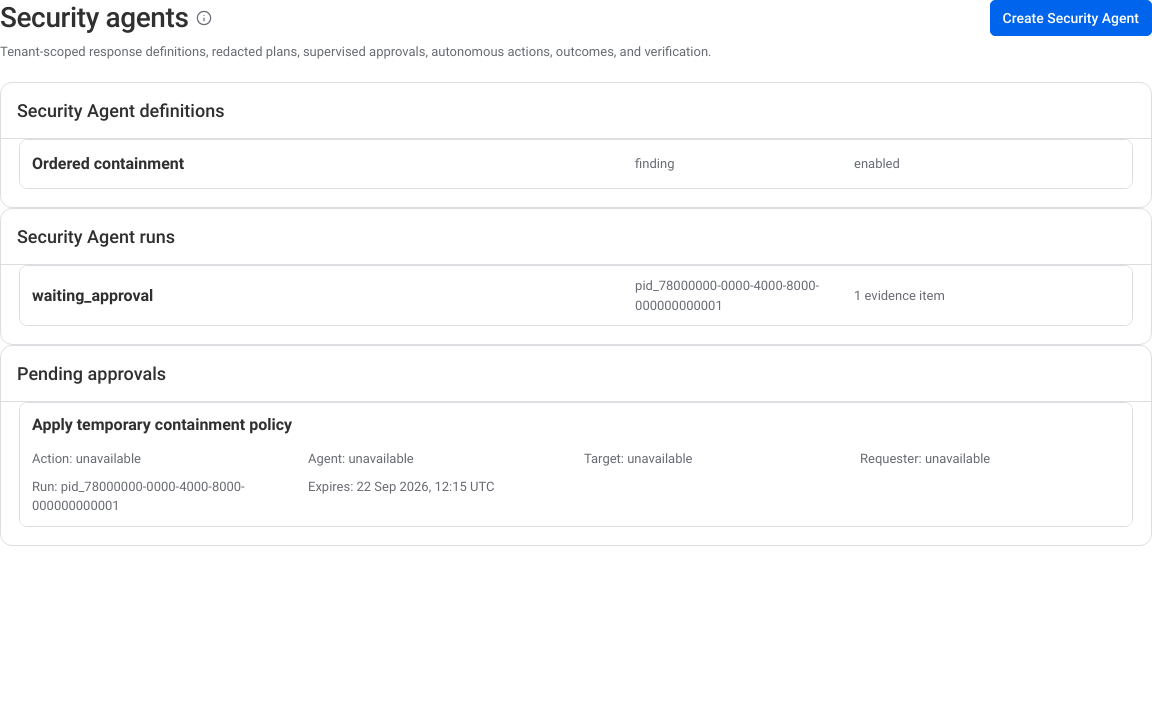
Test: ordered run drawer › keeps approved v2 after direct decision when an older refresh returns pending
Later steps or results of the test are not shown.
Click the button with aria-label "Open approval pid_78000000-0000-4000-8000-000000000006" at (162, 424), box [20,403,1132,526]
(page scrolled)
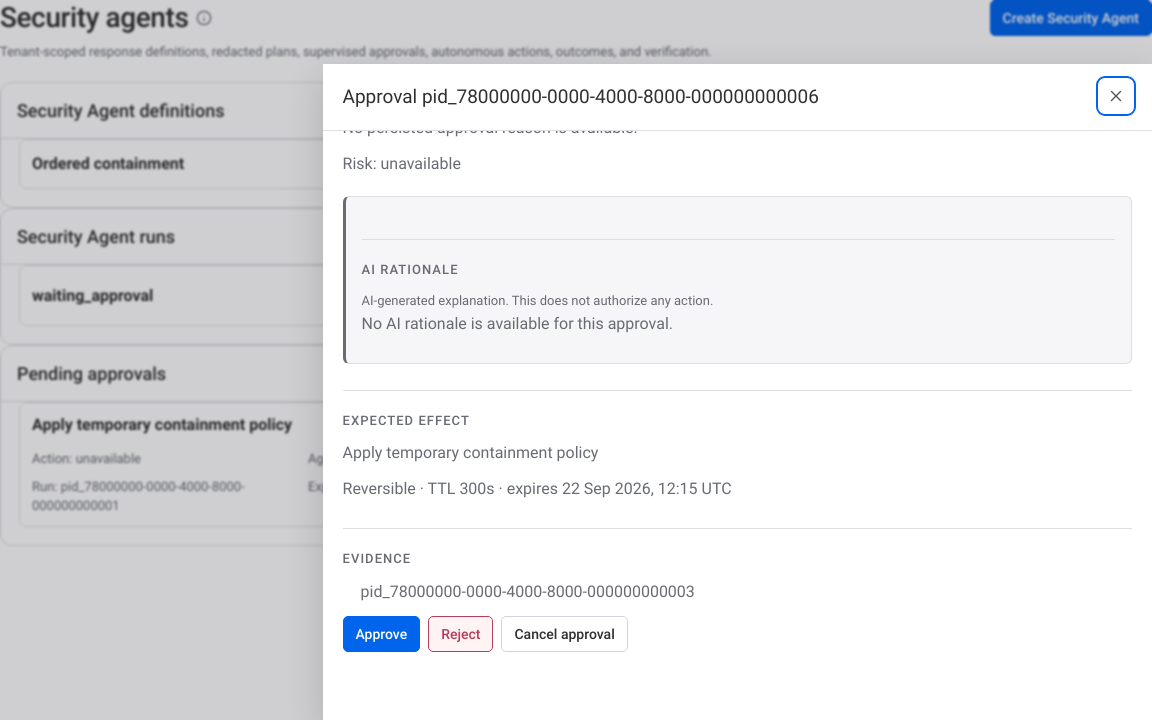
Check: the dialog is shown
Click the button "Approve" at (381, 634), box [343,616,420,652]
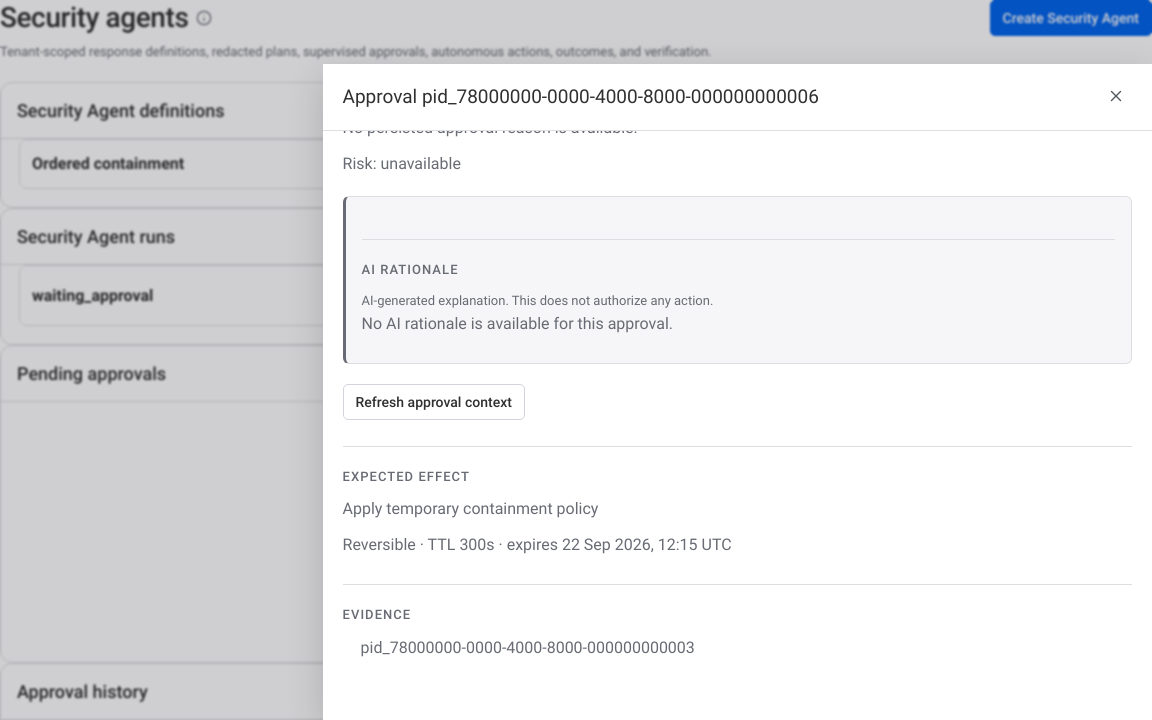
Check: the button "Approve" is not shown
Check: the button "Reject" is gone
